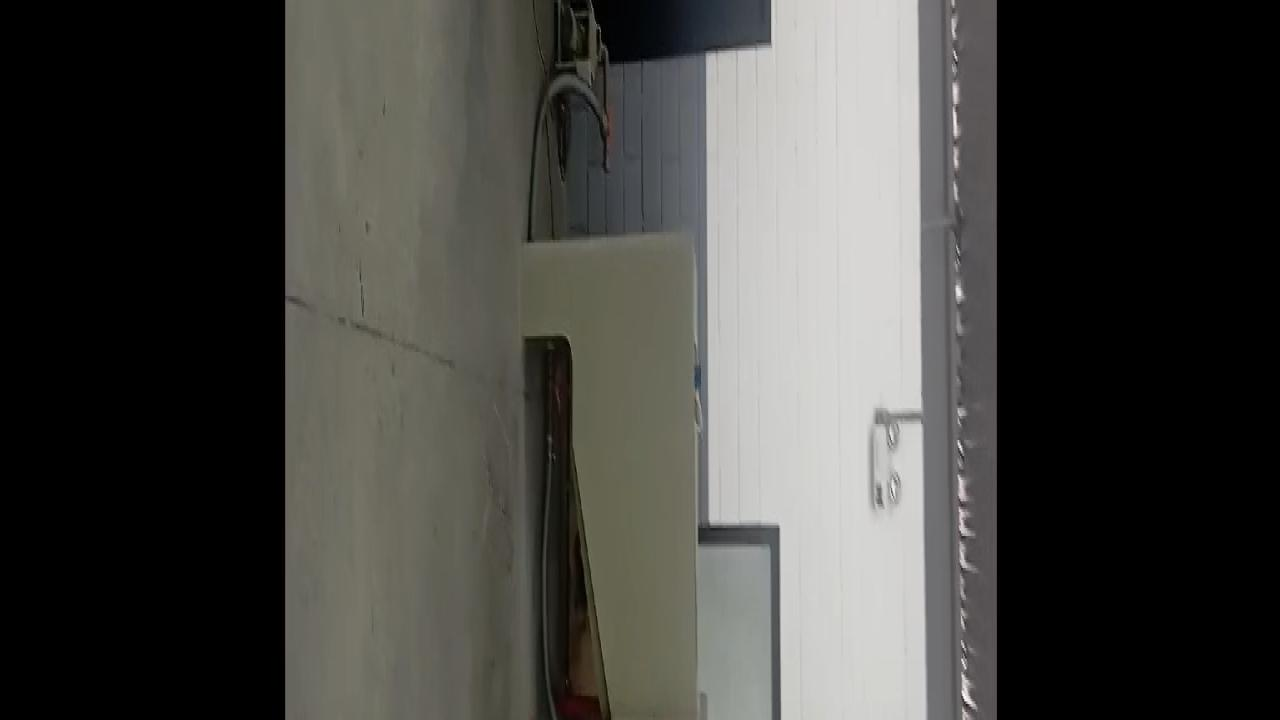Cube: (694, 364, 700, 386)
